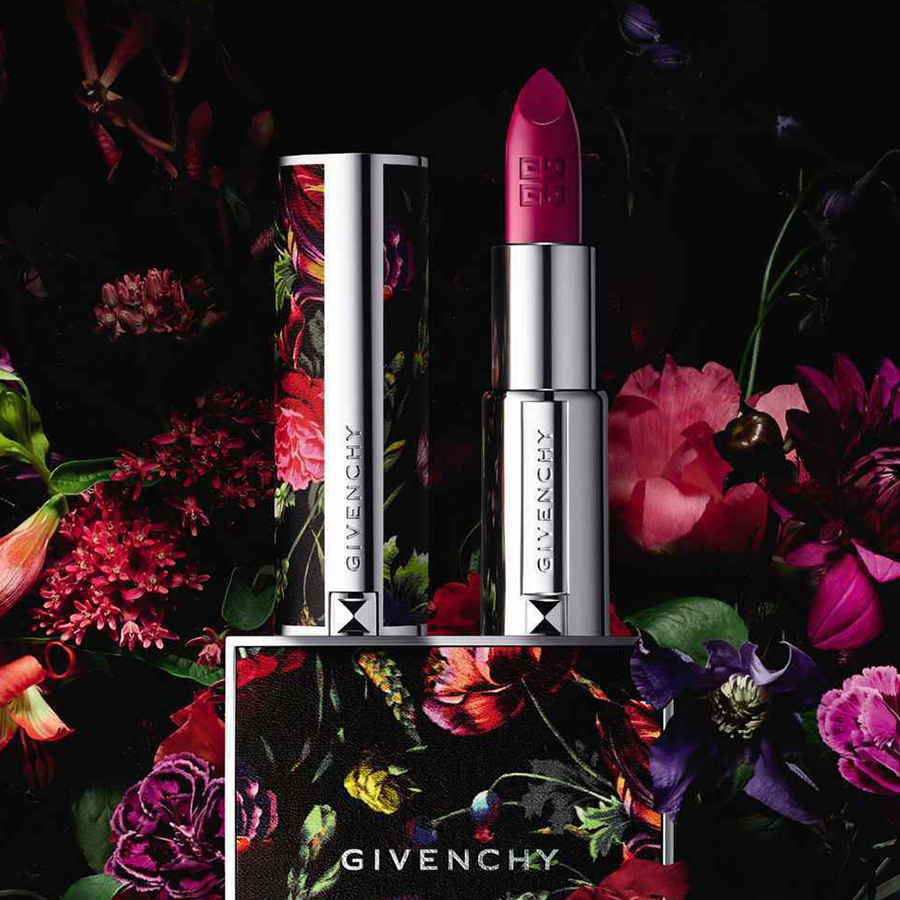GIVENCHY: (334, 833, 569, 878), (531, 423, 557, 587), (340, 420, 365, 580)
